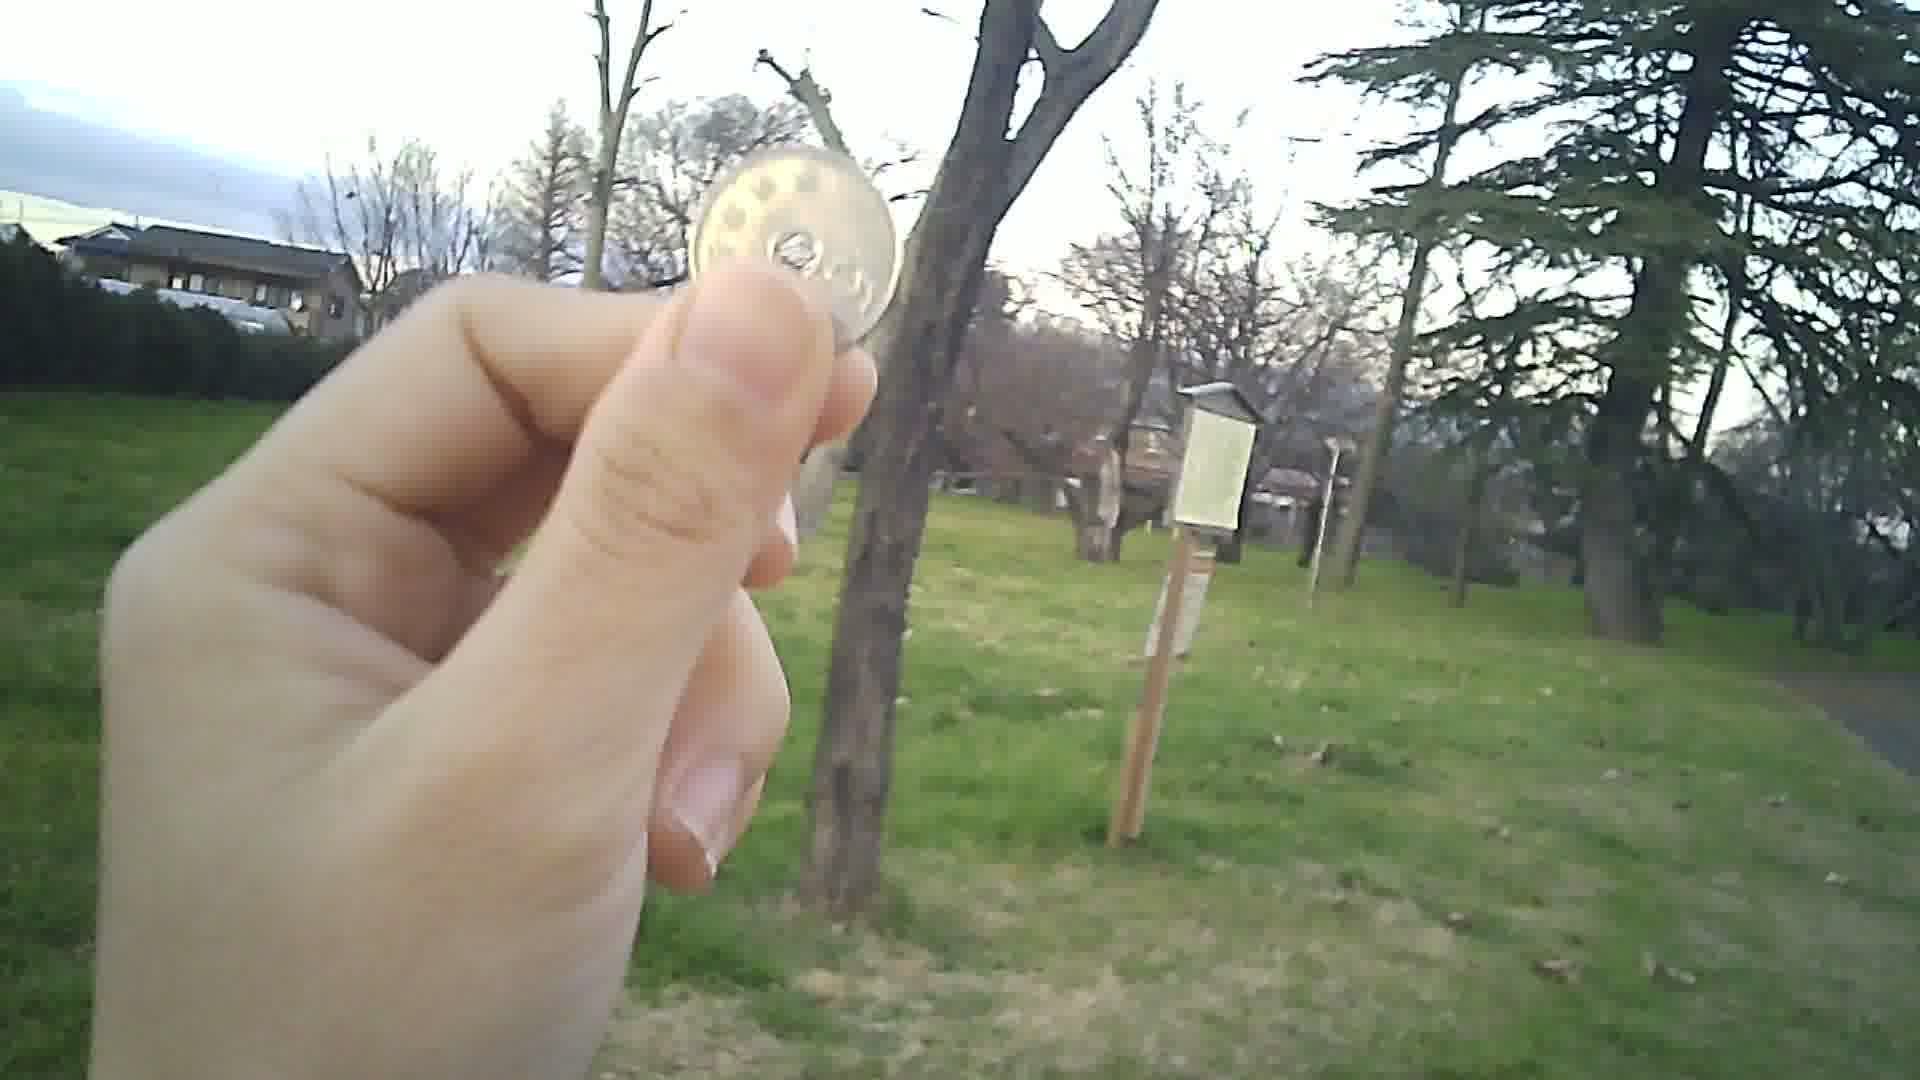50 Yen: (687, 138, 901, 348)
